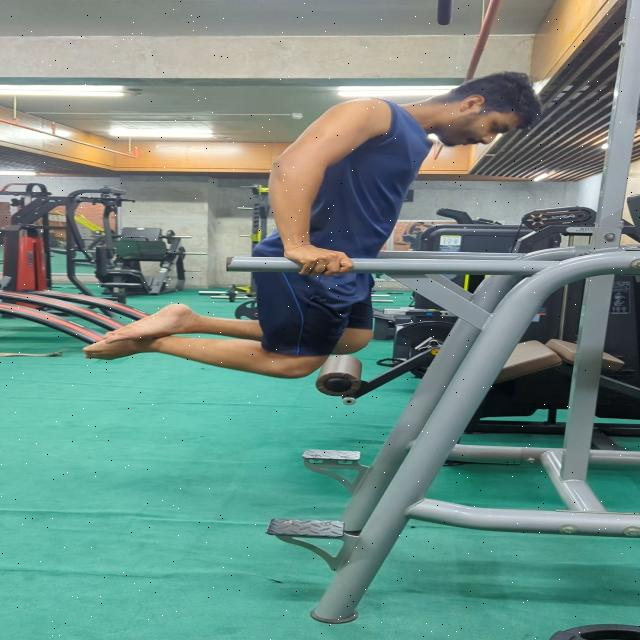Normal_Dips: (71, 66, 545, 382)
